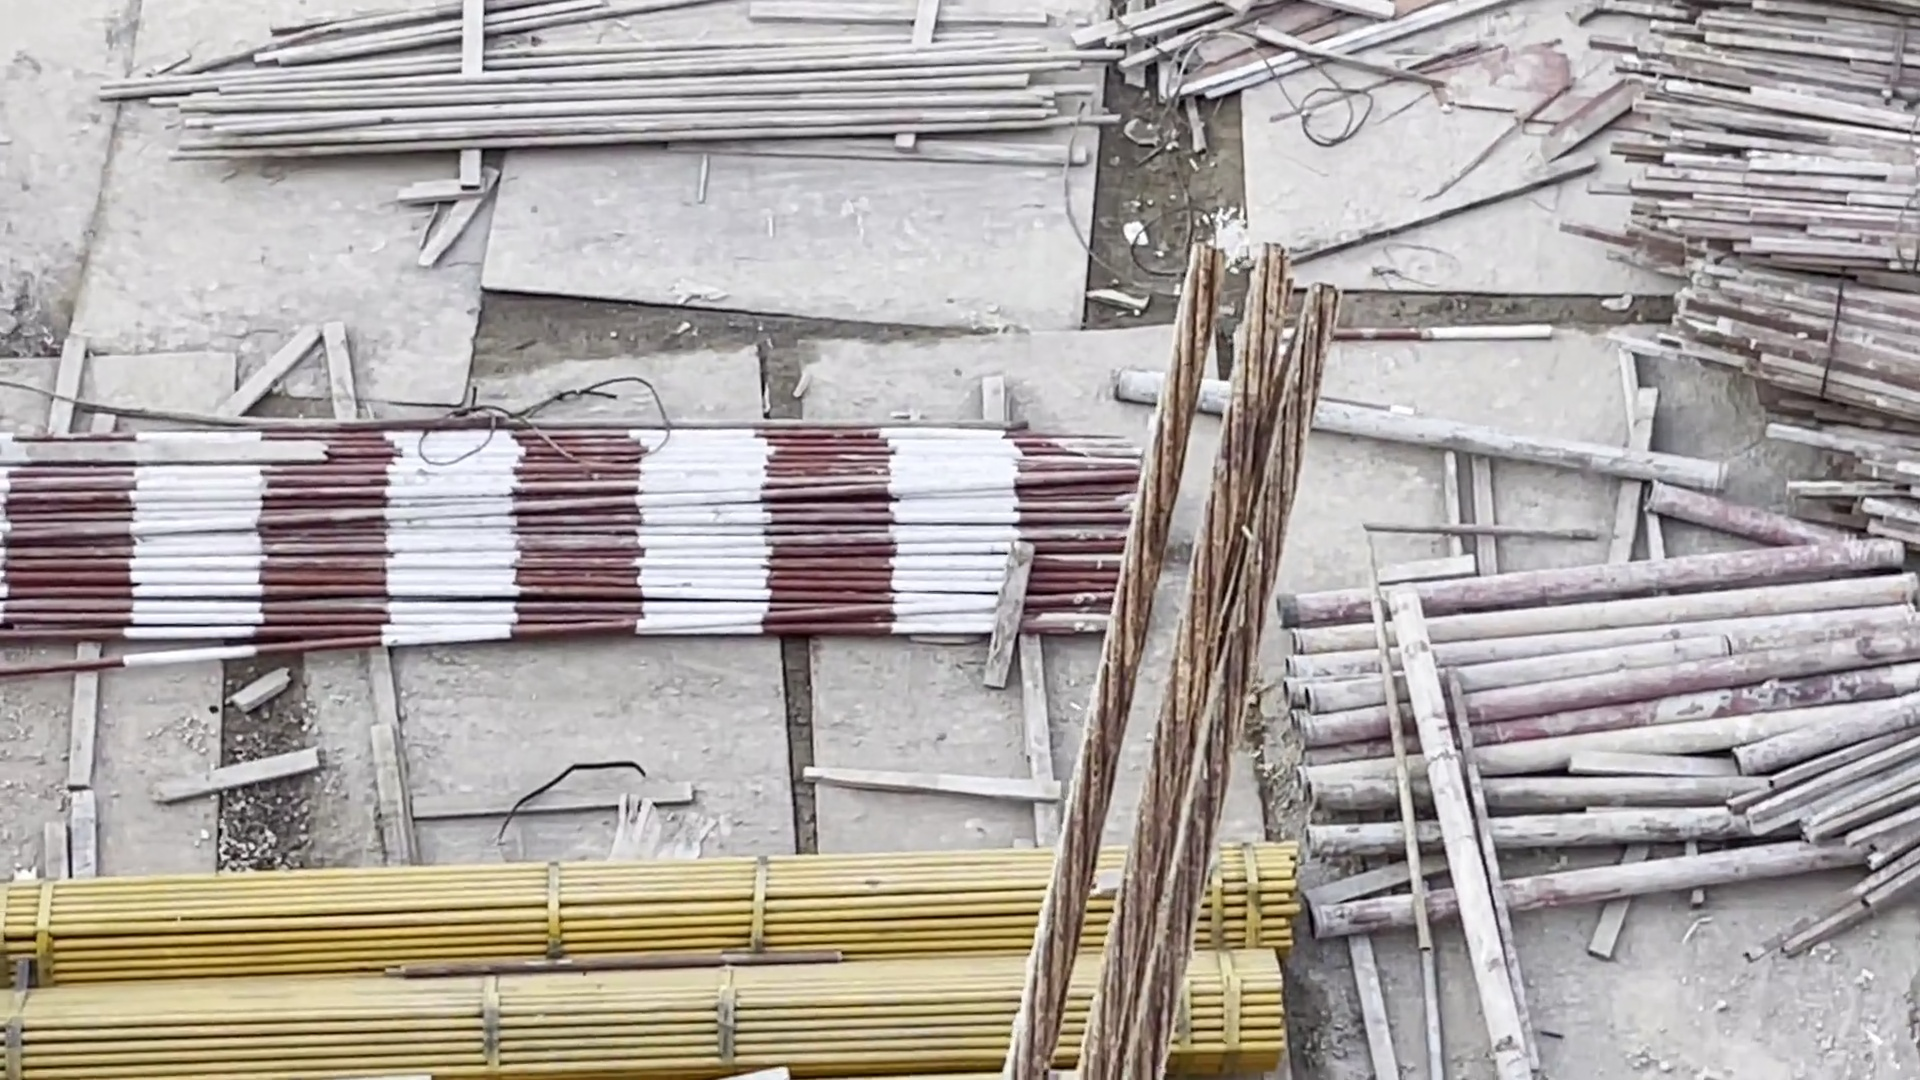scaffold: (1299, 600, 1894, 960)
wood: (1669, 4, 1920, 524)
